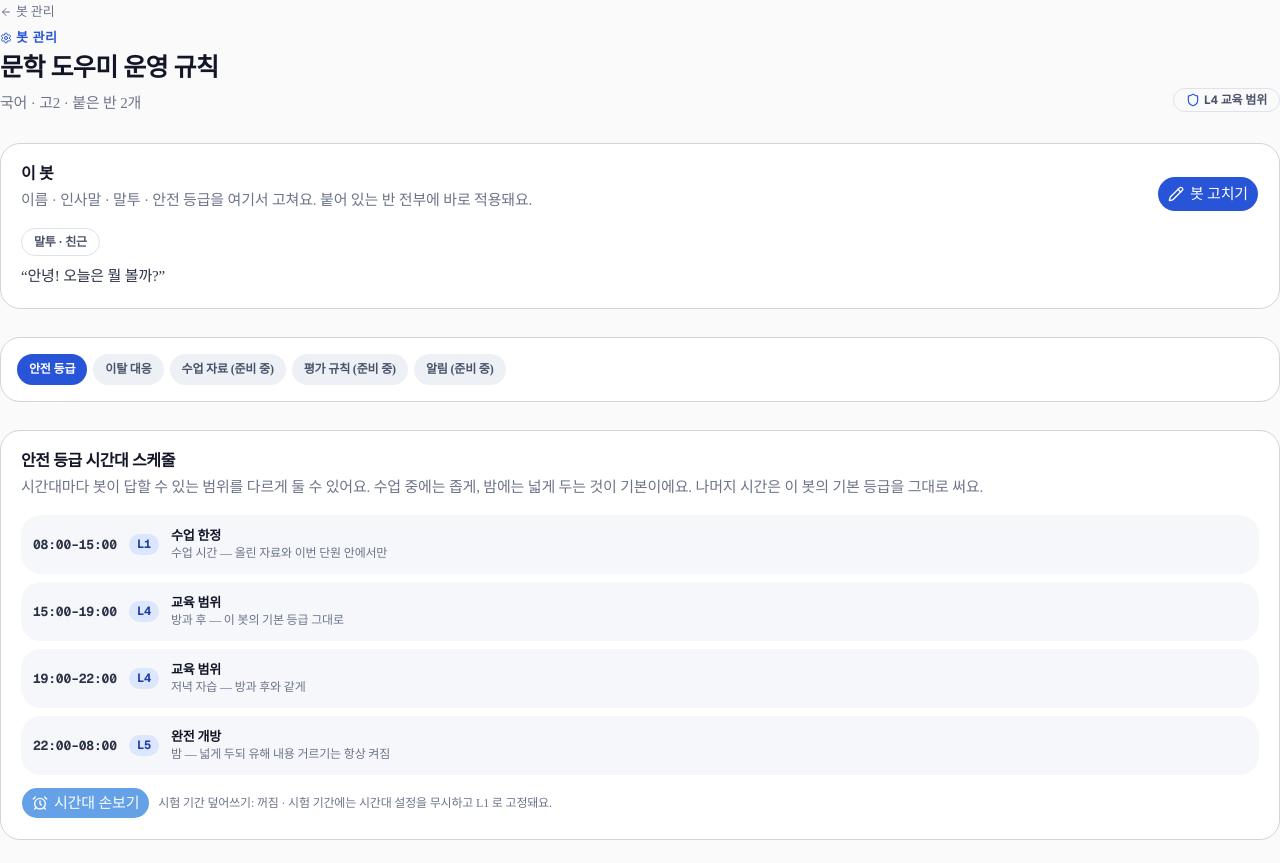
it: 봇 고치기 › 실패하면 그 뜻을 말한다 — 네 화면이 읽는 같은 표에서
Click the button with test id "bot-edit-toggle": (1208, 194) [1157, 176, 1259, 212]
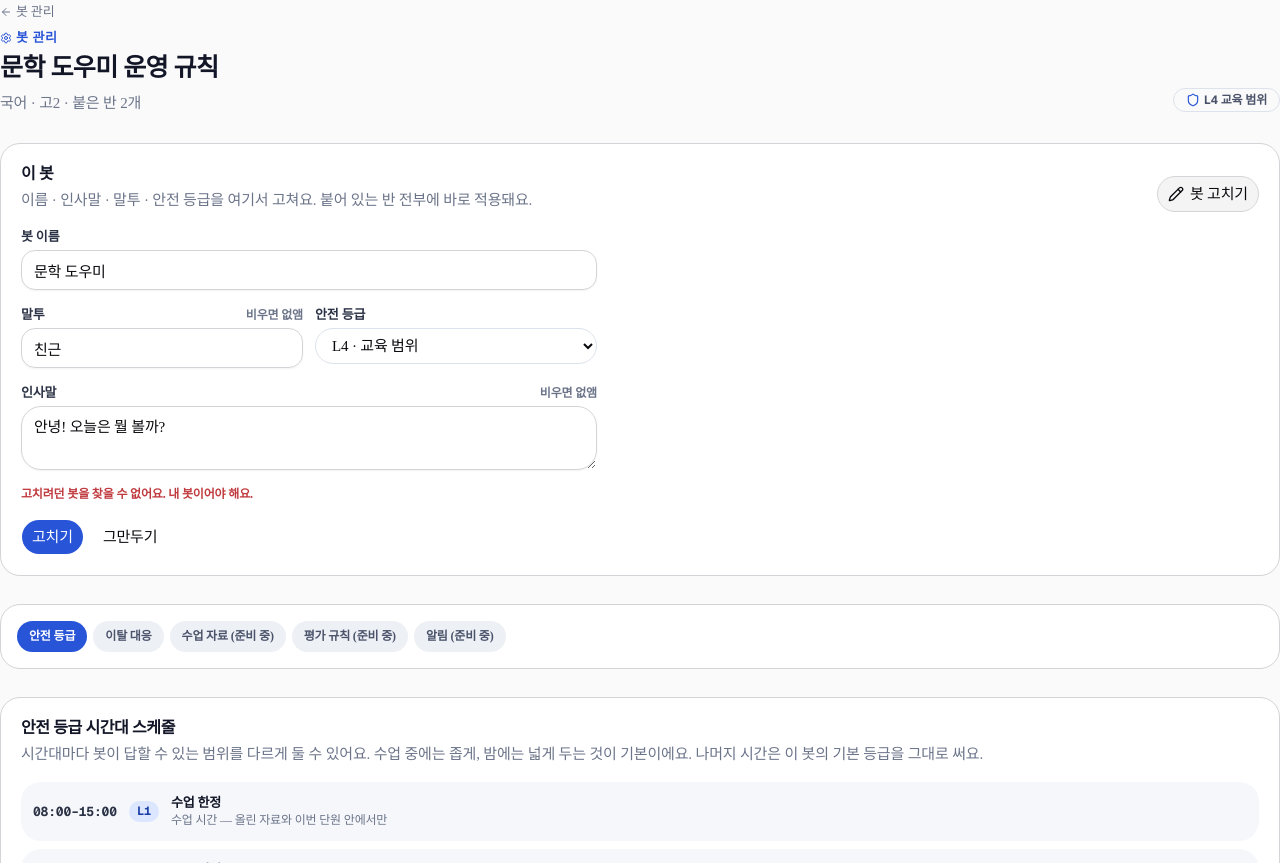
Expected: the message with test id "bot-edit-error" reads "고치려던 봇을 찾을 수 없어요. 내 봇이어야 해요.", [21, 487, 253, 501]
